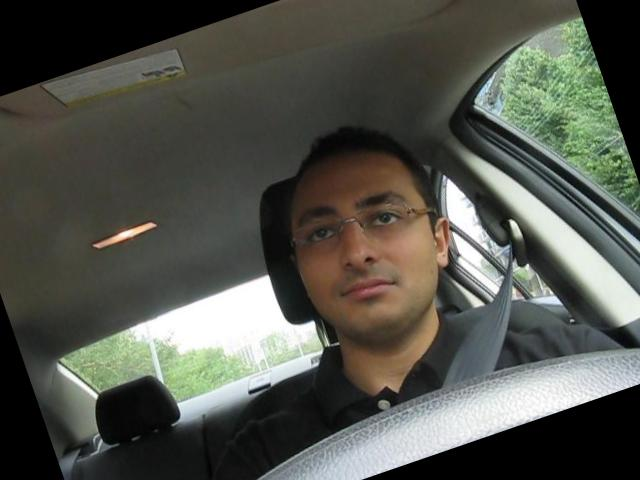eye_open: (298, 215, 346, 254), (361, 201, 408, 238)
face: (269, 147, 456, 356)
